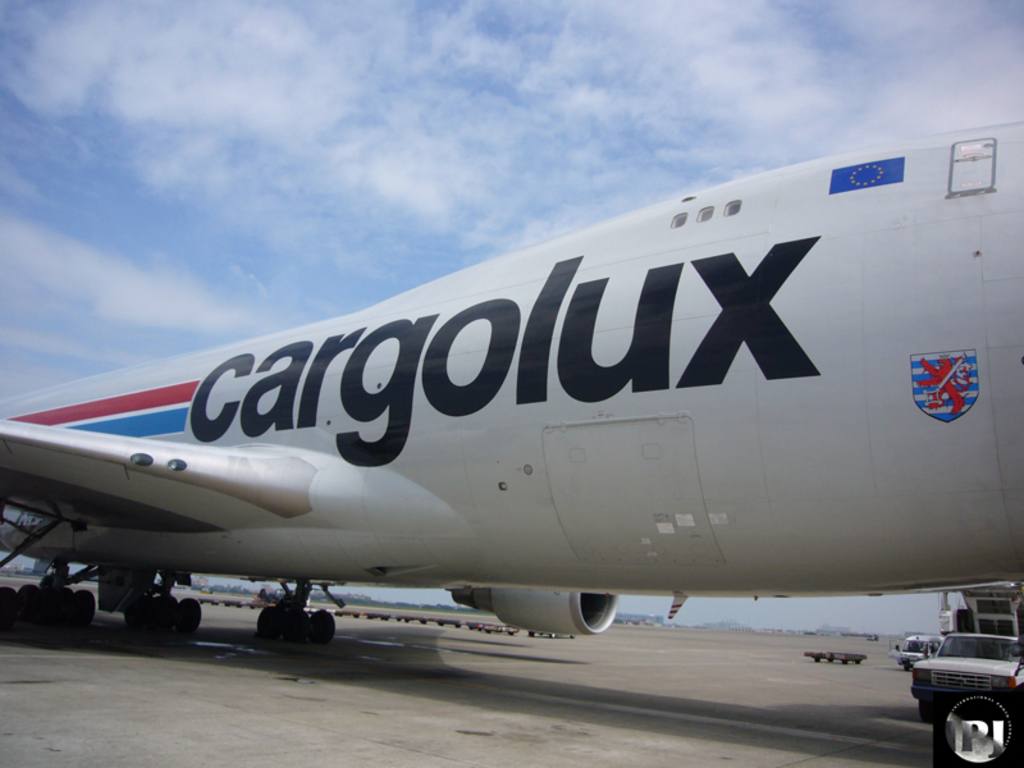Car: (906, 625, 1012, 735)
